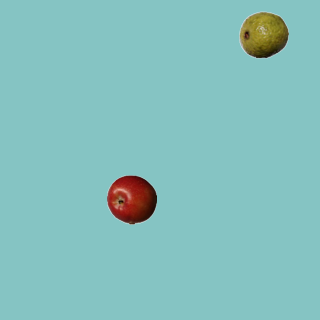Apple Braeburn: (106, 174, 156, 224)
Guava: (238, 9, 288, 59)
